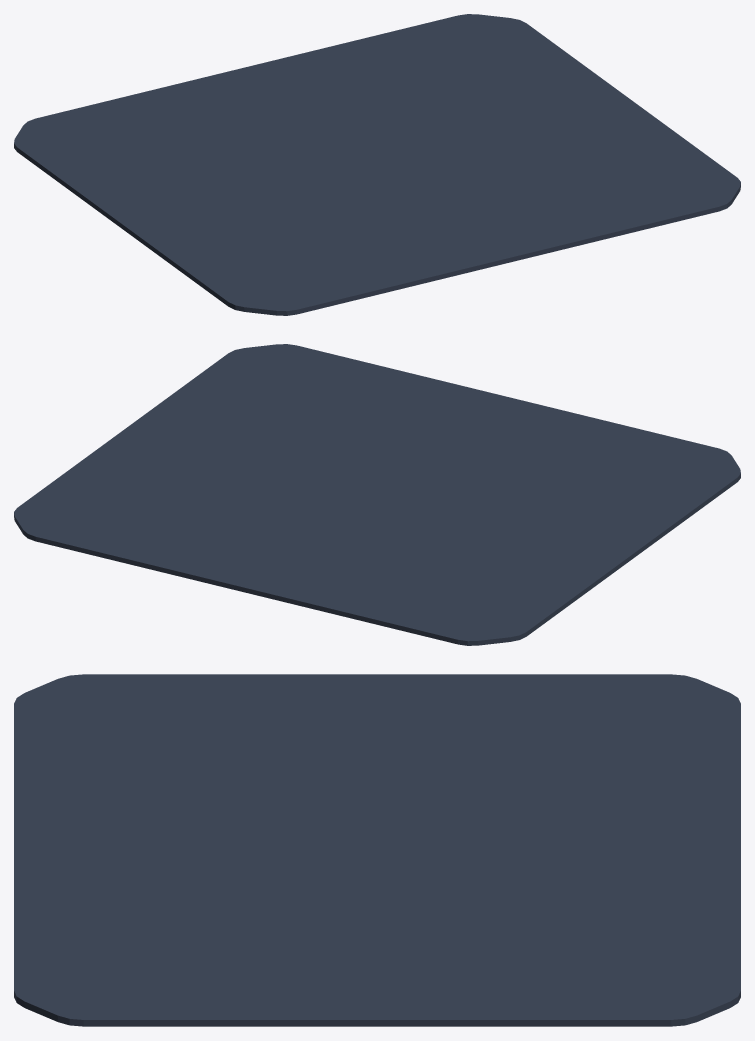
Rendered from gnss_mount.dae.
The picture shows the model from 3 angles, top to bottom: view 1: azimuth 30°, elevation 25°; view 2: azimuth 150°, elevation 25°; view 3: azimuth 270°, elevation 25°; orthographic projection. The views are drawn at different scales.
Visible parts, largest first — view 1: gnss_mount_link; view 2: gnss_mount_link; view 3: gnss_mount_link.
Part boxes in pixels (box(x1,y1,x2,y2)): gnss_mount_link: box(14, 14, 740, 315); gnss_mount_link: box(14, 344, 740, 645); gnss_mount_link: box(14, 674, 740, 1026).
Size of the model in its own units: 0.45 by 0.4 by 0.004.
